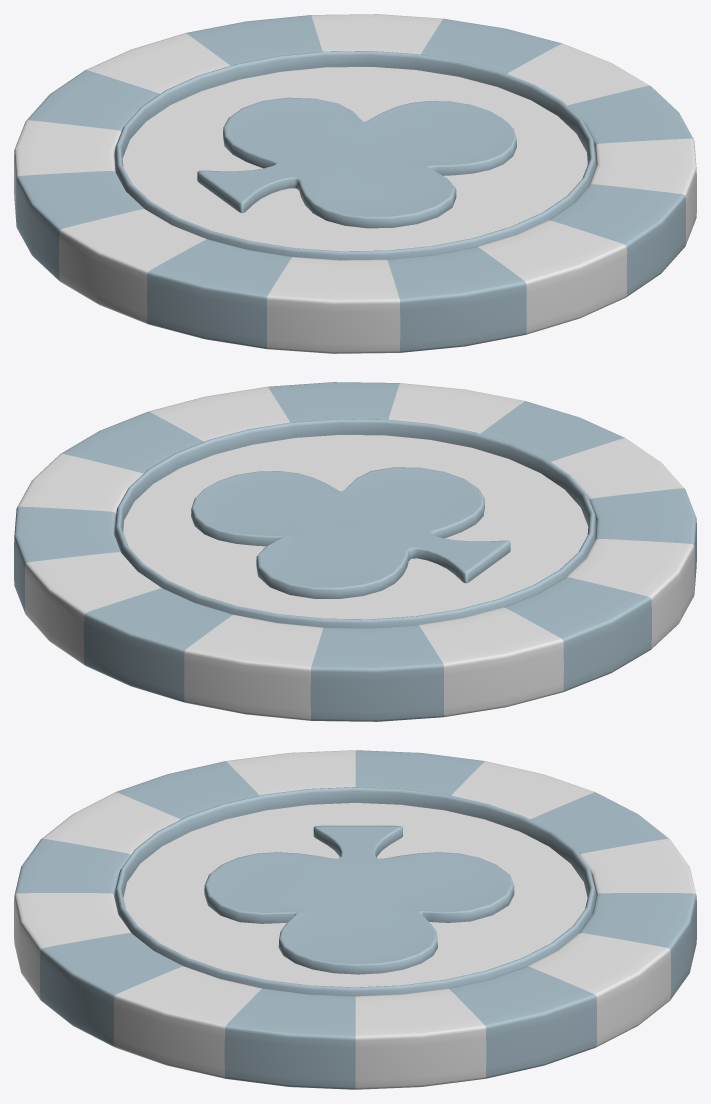
Rendered from pokerassets.fbx.
The picture shows the model from 3 angles, top to bottom: view 1: azimuth 30°, elevation 25°; view 2: azimuth 150°, elevation 25°; view 3: azimuth 270°, elevation 25°; orthographic projection.
Parts seen in each view (by area): view 1: Cylinder; view 2: Cylinder; view 3: Cylinder.
Part boxes in pixels (x1=…): Cylinder: x1=14, y1=14, x2=696, y2=353; Cylinder: x1=14, y1=382, x2=696, y2=721; Cylinder: x1=14, y1=750, x2=696, y2=1089.
Bounding box in the file's own units: 279 × 29.35 × 279.
